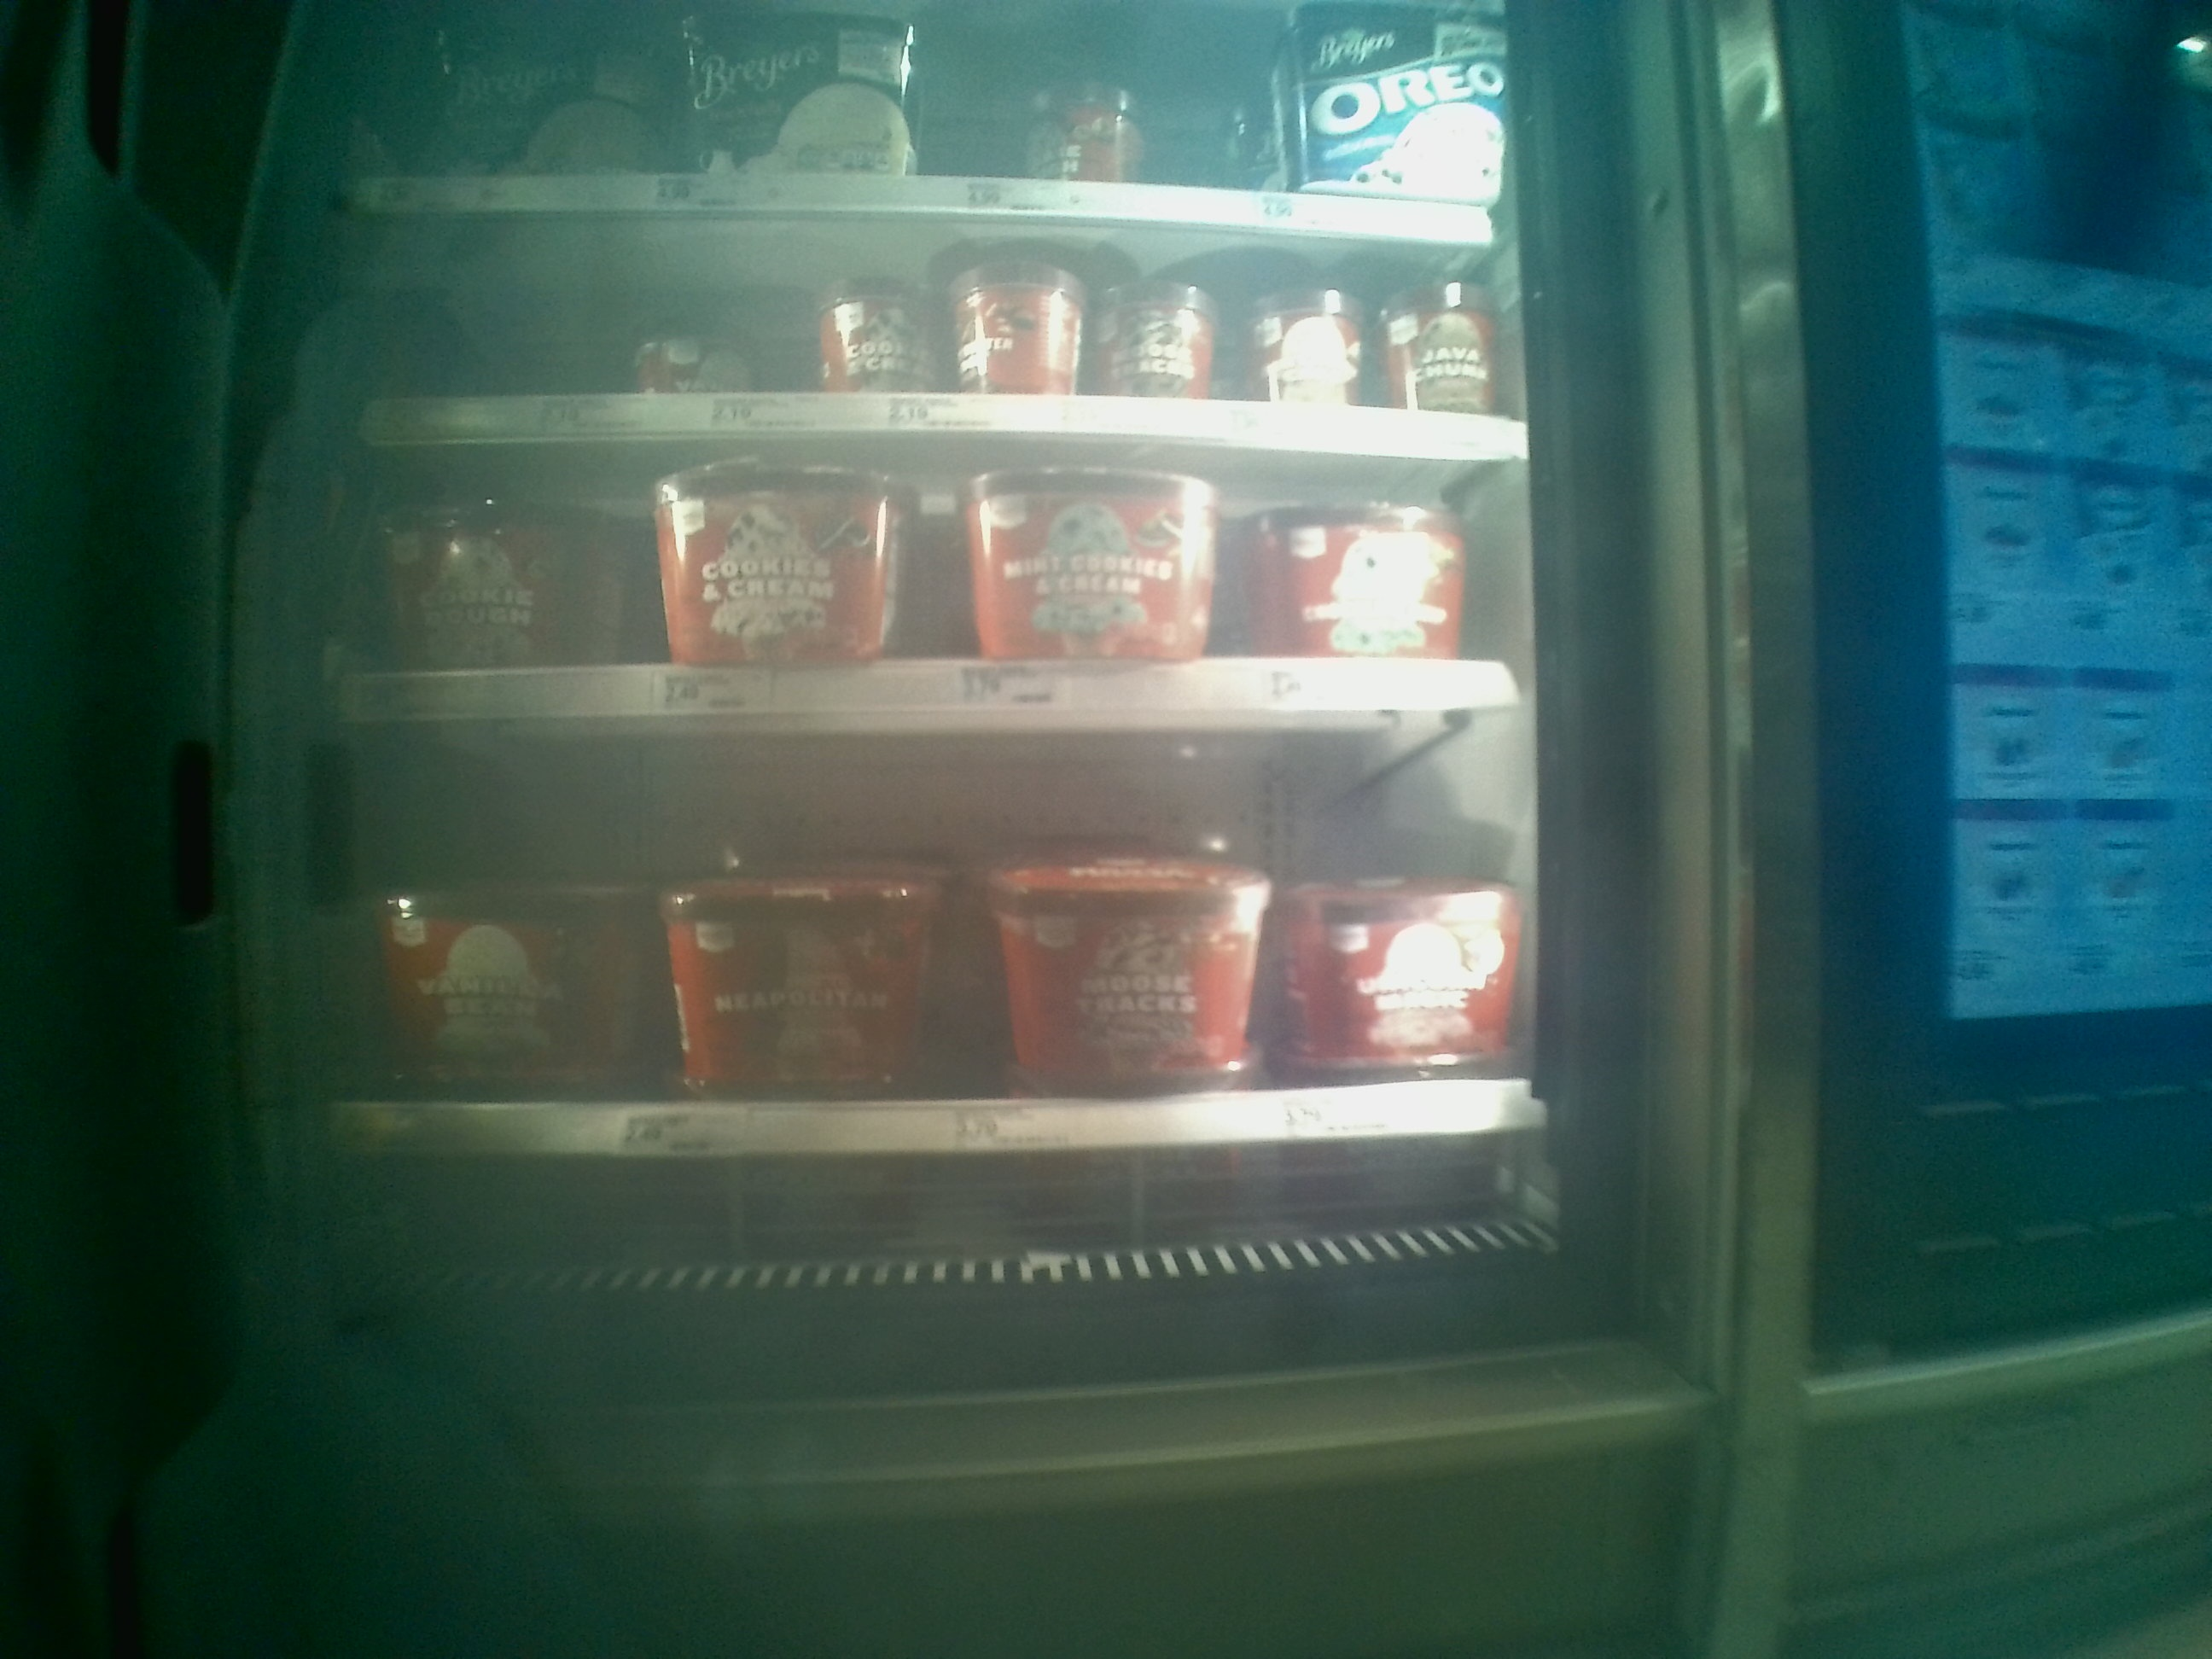ice-cream-shelf: (338, 746, 1522, 1152), (336, 462, 1498, 741), (347, 218, 1514, 462)
